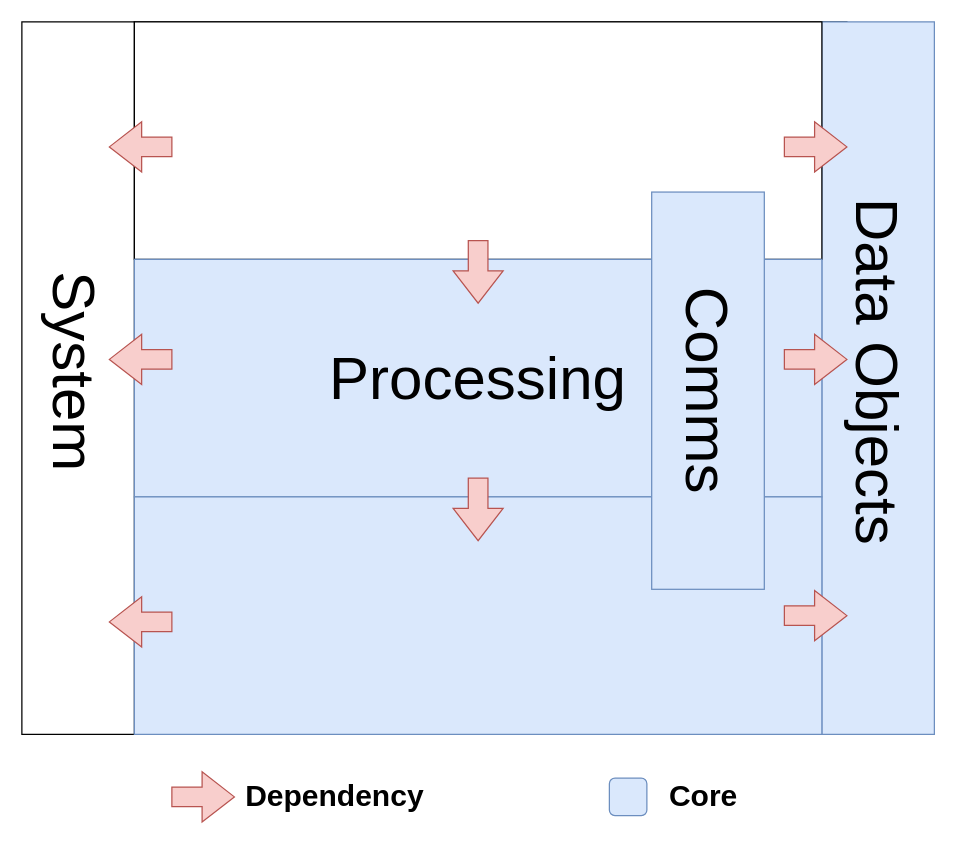
Some shapes in this 956 by 844 pixel diagram are drawn without their labels. Each missing label, with the box of its shape:
Data: (133, 496, 822, 734)
Presentation: (133, 21, 822, 259)
